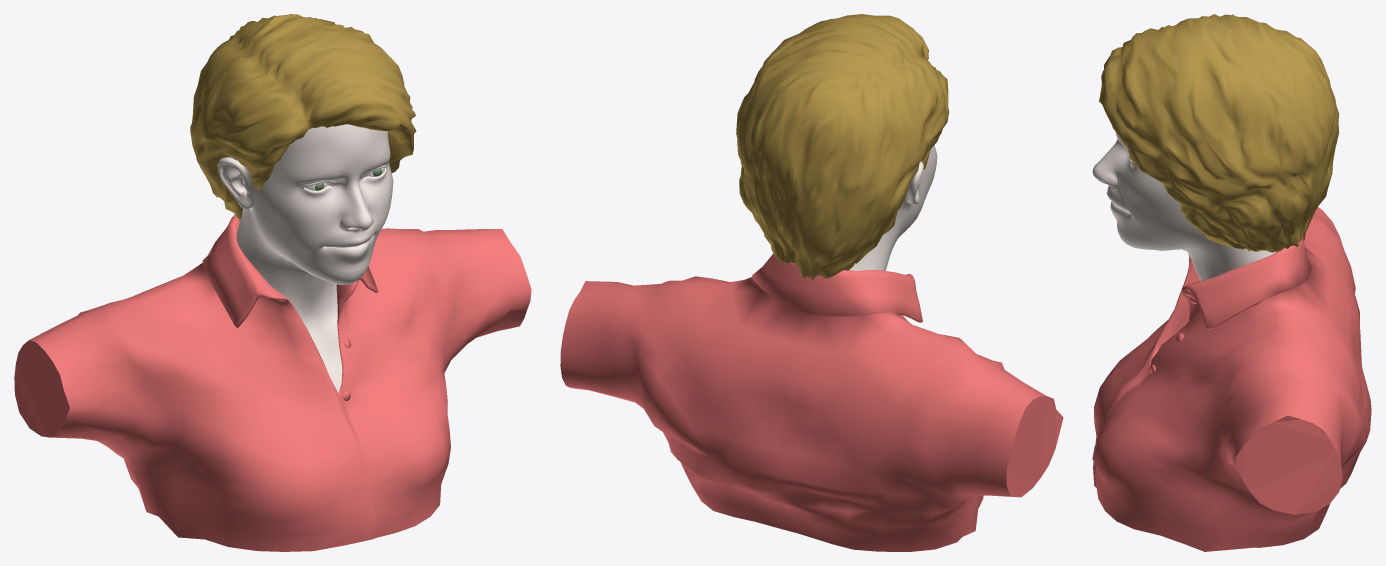
The model's file is InteractiveTreePersonFemaleCartoon.dae.
The picture shows the model from 3 angles, left to right: view 1: azimuth 30°, elevation 25°; view 2: azimuth 150°, elevation 25°; view 3: azimuth 270°, elevation 25°; orthographic projection.
Parts seen in each view (by area): view 1: model; view 2: model; view 3: model.
Part boxes in pixels (x1,y1,x2,y2): model: (14, 14, 531, 551); model: (560, 14, 1063, 551); model: (1092, 14, 1371, 551).
Bounding box in the file's own units: 0.5347 × 0.2827 × 0.5252.
